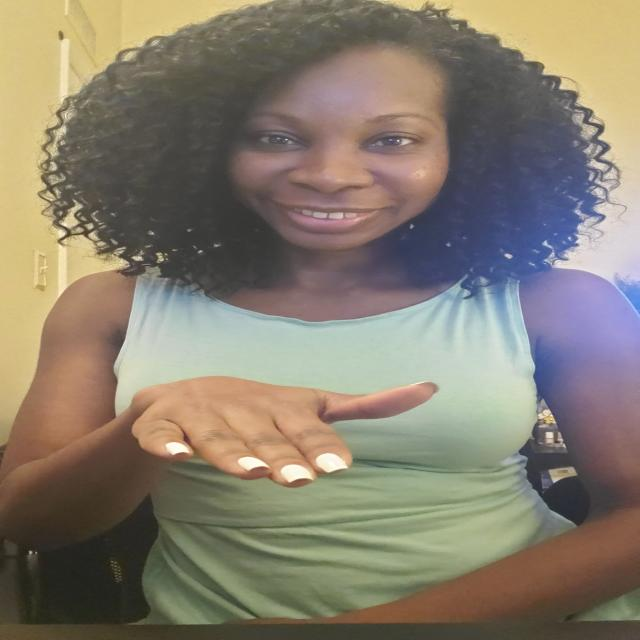Paper: (121, 368, 456, 492)
